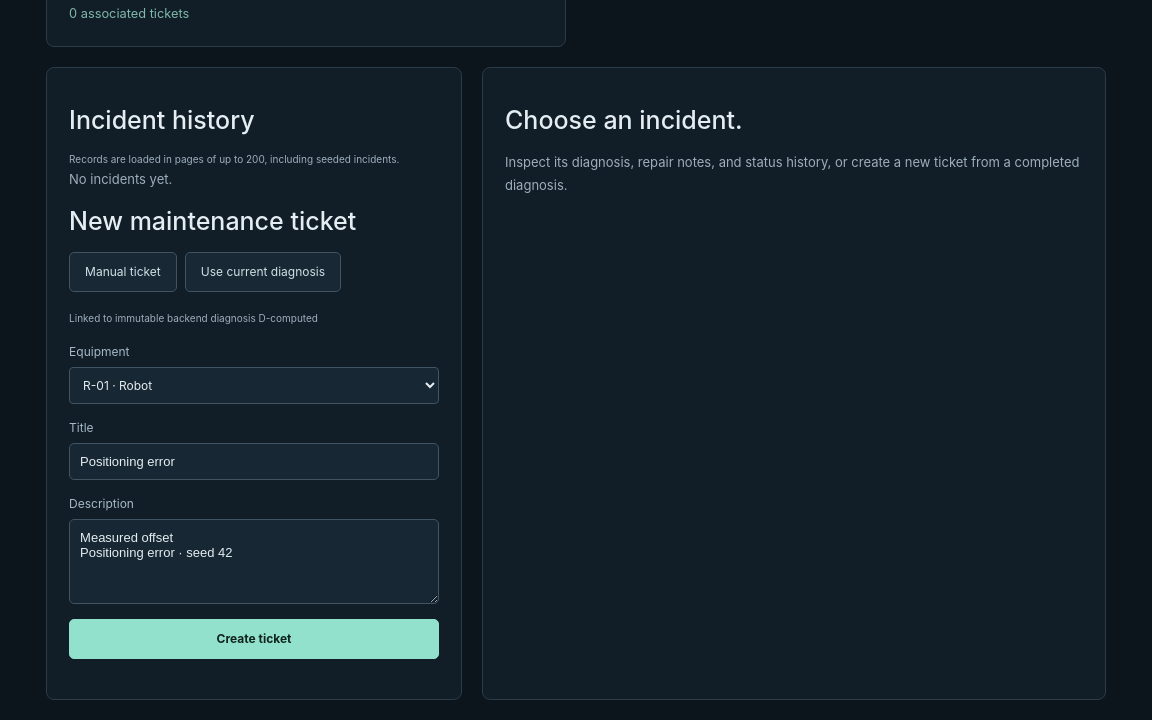
Scenario: creates a ticket linked to backend diagnosis ID, not a supplied replacement snapshot
(page scrolled)
Expected: the heading "New maintenance ticket" is shown, [69,206,356,236]
Click the button "Create ticket": {"x": 254, "y": 639} [69,619,439,659]
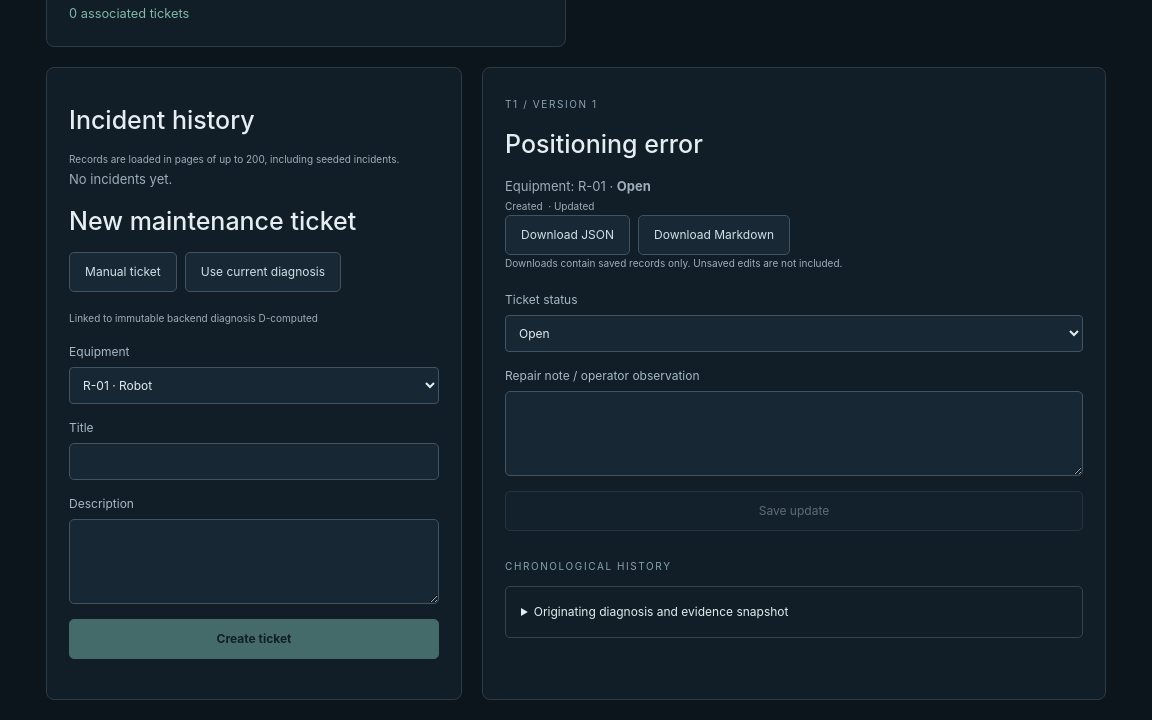
Result: the element named "Ticket details" shows "T1" at [505,98,519,110]
Result: the dropdown labelled "Ticket status" shows "Open" at [505,314,1083,352]
